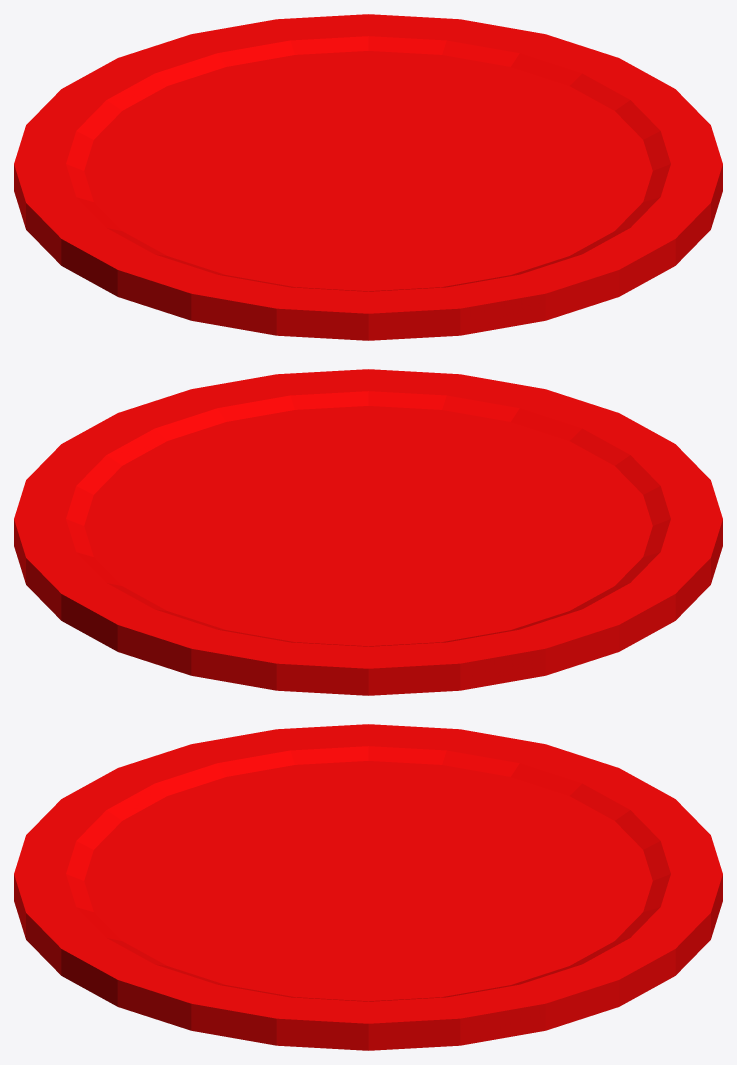
The model's file is equipment_0031_flatdiscmarker.glb.
The picture shows the model from 3 angles, top to bottom: view 1: azimuth 30°, elevation 25°; view 2: azimuth 150°, elevation 25°; view 3: azimuth 270°, elevation 25°; orthographic projection.
Parts seen in each view (by area): view 1: flatdiscmarker; view 2: flatdiscmarker; view 3: flatdiscmarker.
Boxes of the visible parts, x1,y1,x2,y2 form: flatdiscmarker: [14, 14, 722, 340]; flatdiscmarker: [14, 369, 722, 695]; flatdiscmarker: [14, 724, 722, 1050].
Size of the model in its own units: 38 by 1.6 by 38.
